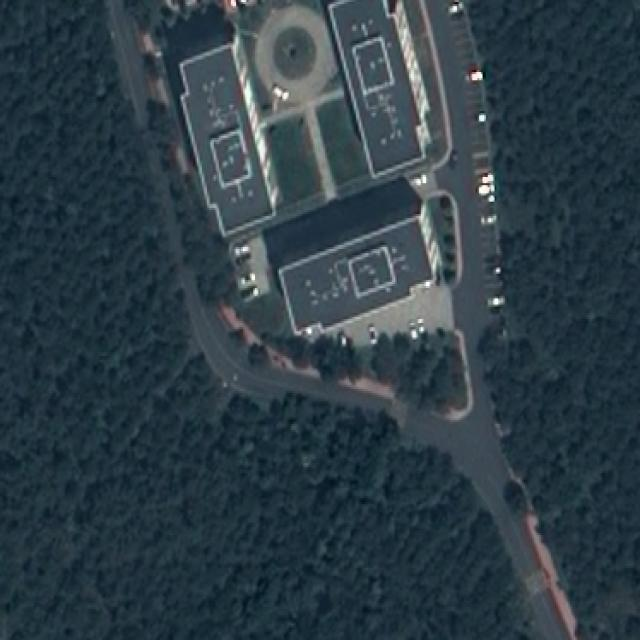Batiment: (180, 36, 275, 237), (327, 0, 431, 175), (279, 220, 429, 334)
